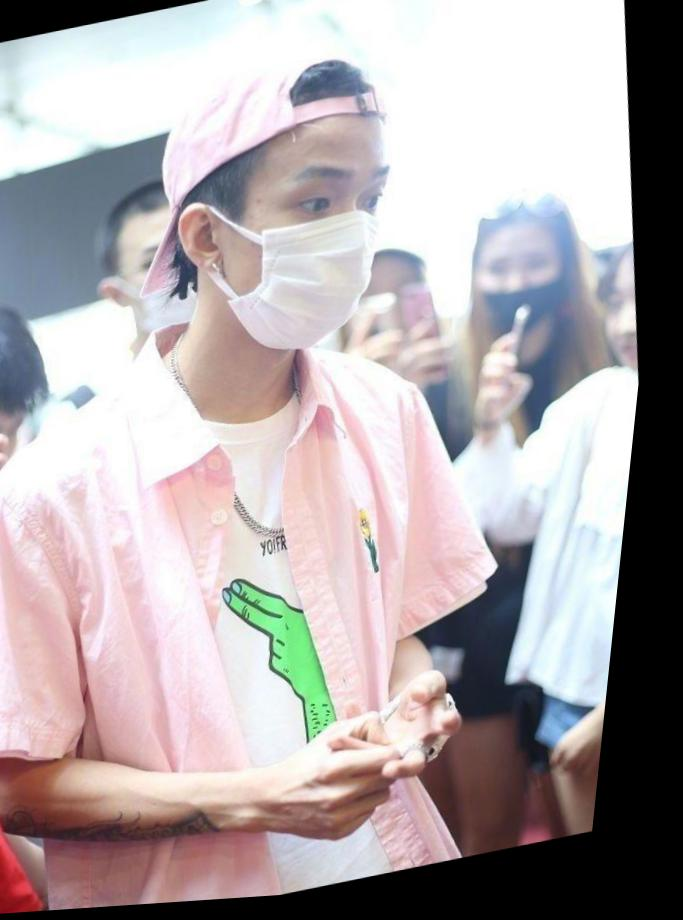NONE: (609, 290, 654, 383)
OK: (205, 140, 413, 372), (121, 222, 247, 348)
WRONG: (475, 241, 582, 347)
